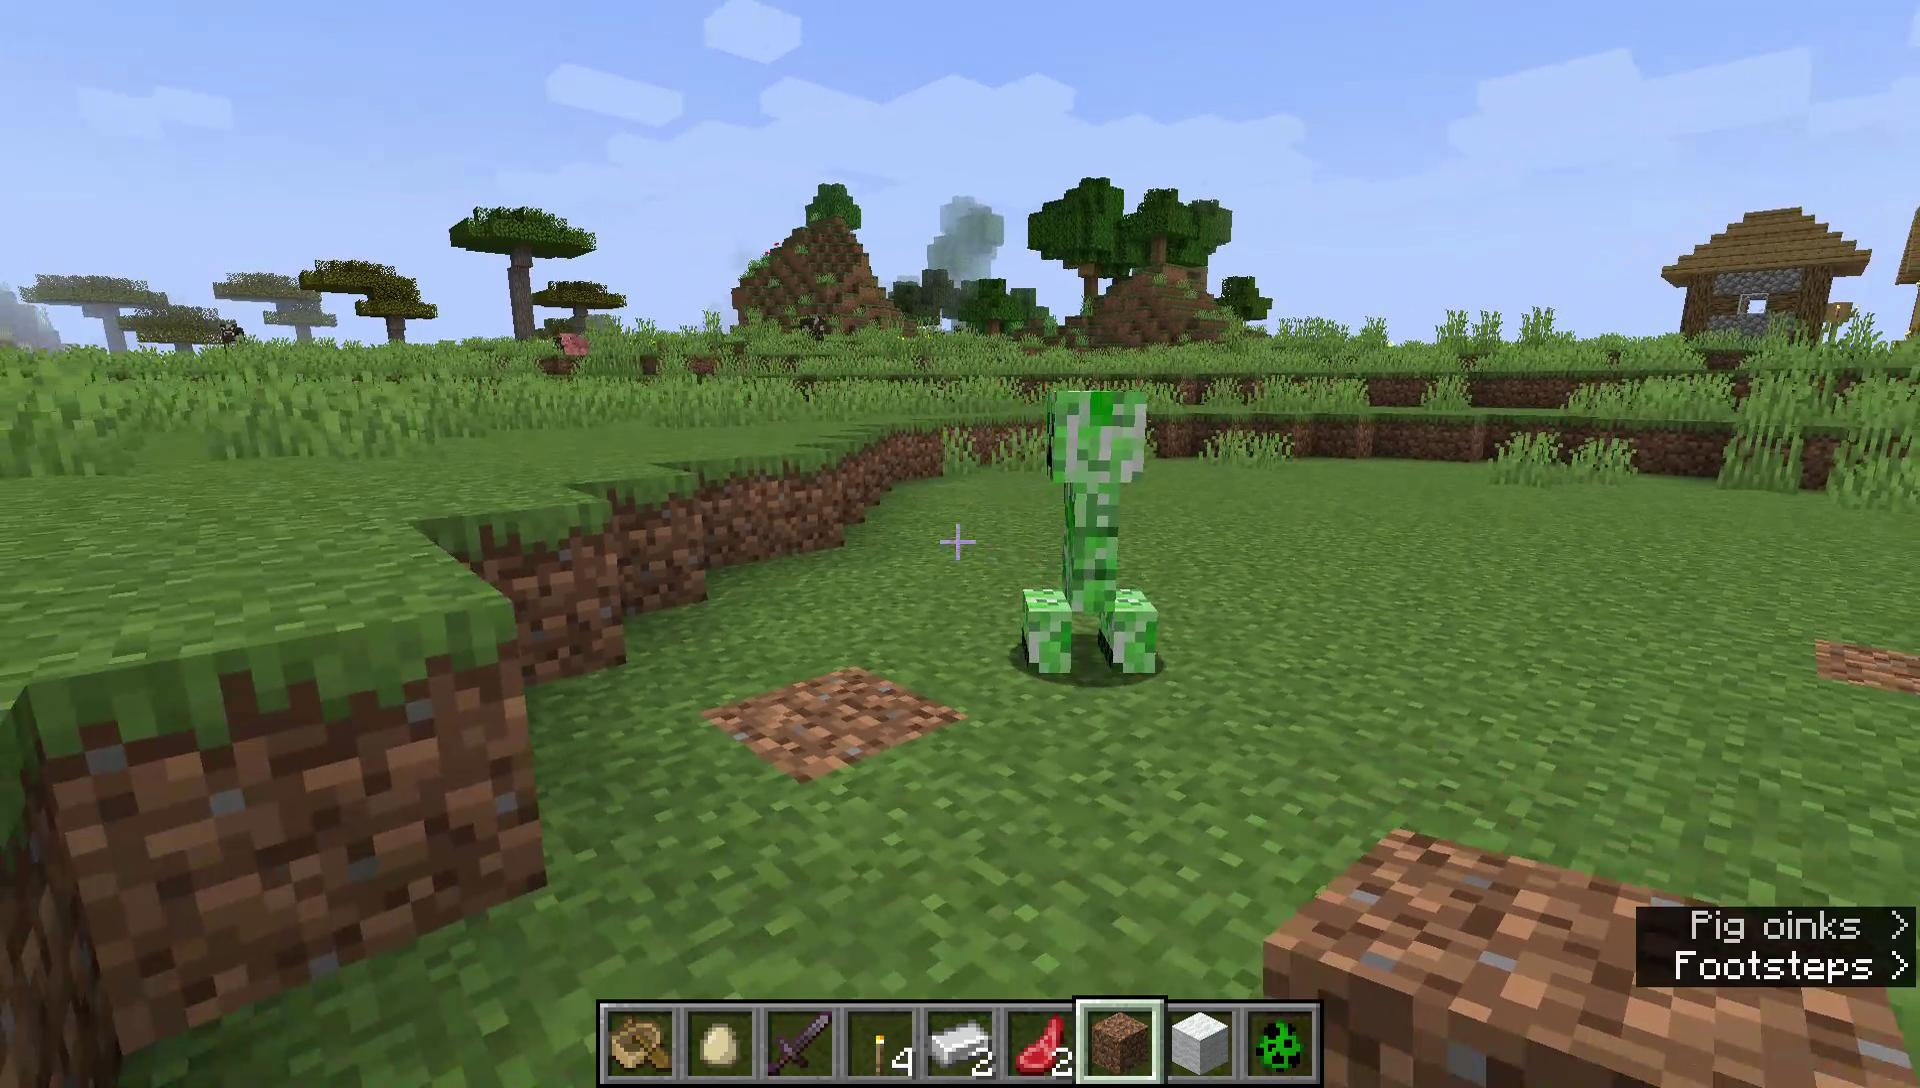cow: (216, 318, 252, 356), (796, 311, 832, 347)
creeper: (1017, 382, 1164, 688)
pig: (558, 327, 593, 359)
